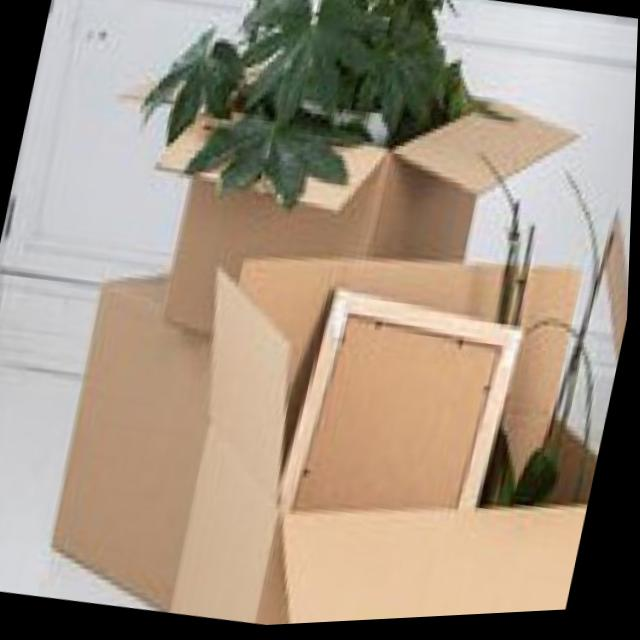box: (142, 193, 634, 633), (112, 37, 599, 408), (31, 256, 248, 622)
